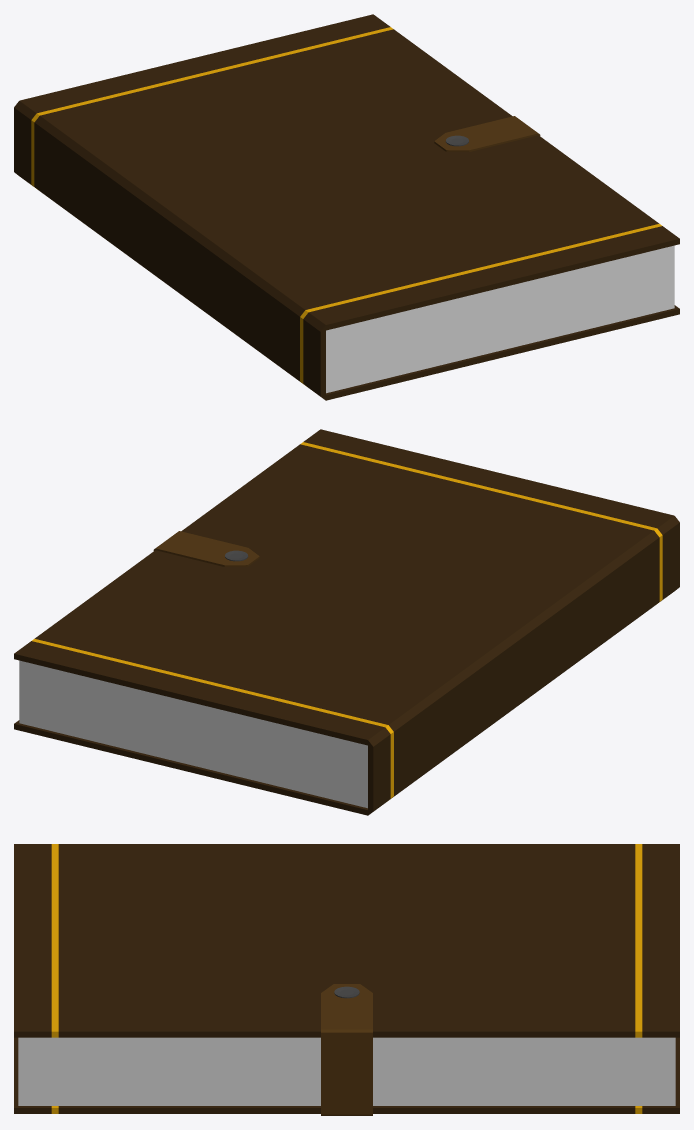
File: Book_V2.fbx
3 renders of one model, top to bottom at view 1: azimuth 30°, elevation 25°; view 2: azimuth 150°, elevation 25°; view 3: azimuth 270°, elevation 25°, orthographic. The views are drawn at different scales.
Visible parts, largest first — view 1: Book_Visual; view 2: Book_Visual; view 3: Book_Visual.
Boxes of the visible parts, left/top/right/bottom form: Book_Visual: left=14, top=14, right=679, bottom=400; Book_Visual: left=14, top=429, right=679, bottom=815; Book_Visual: left=14, top=844, right=679, bottom=1115.
Size of the model in its own units: 204 by 43.34 by 300.
